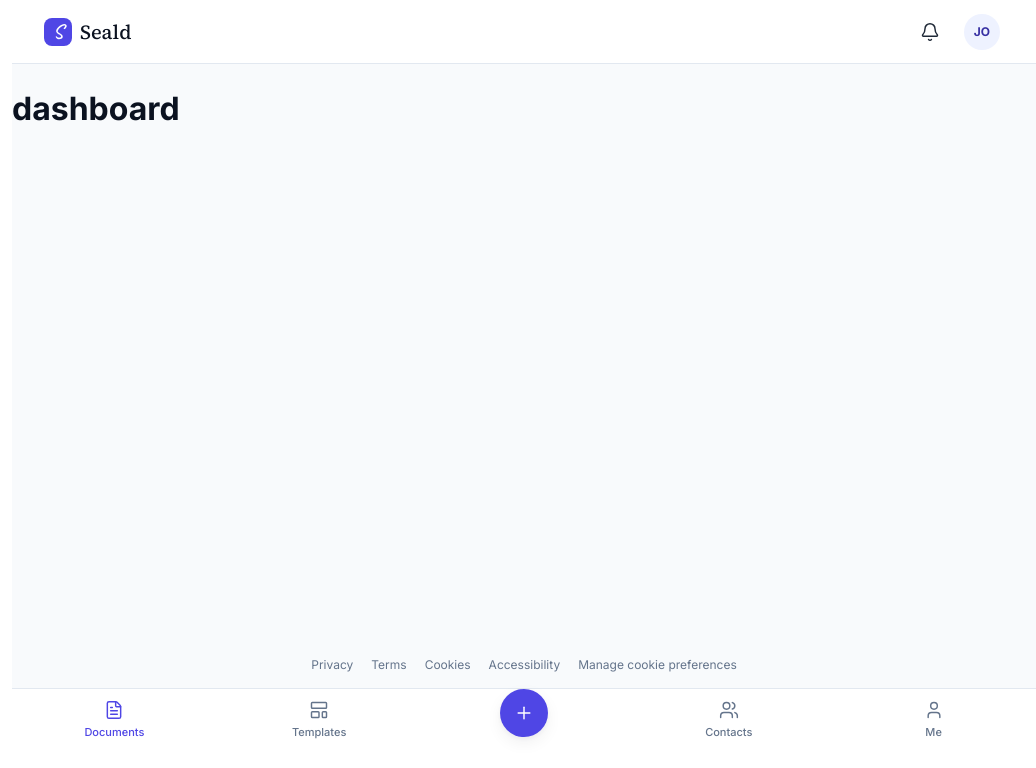
Test case: AppShell — mobile shell › bottom nav tabs navigate and "Me" lands on settings
This screenshot has width=1036, height=768.
What coordinates should you click on to do the following:
click the link "Me"
I would click on:
 (934, 720)
Its box is [924,700,944,739].
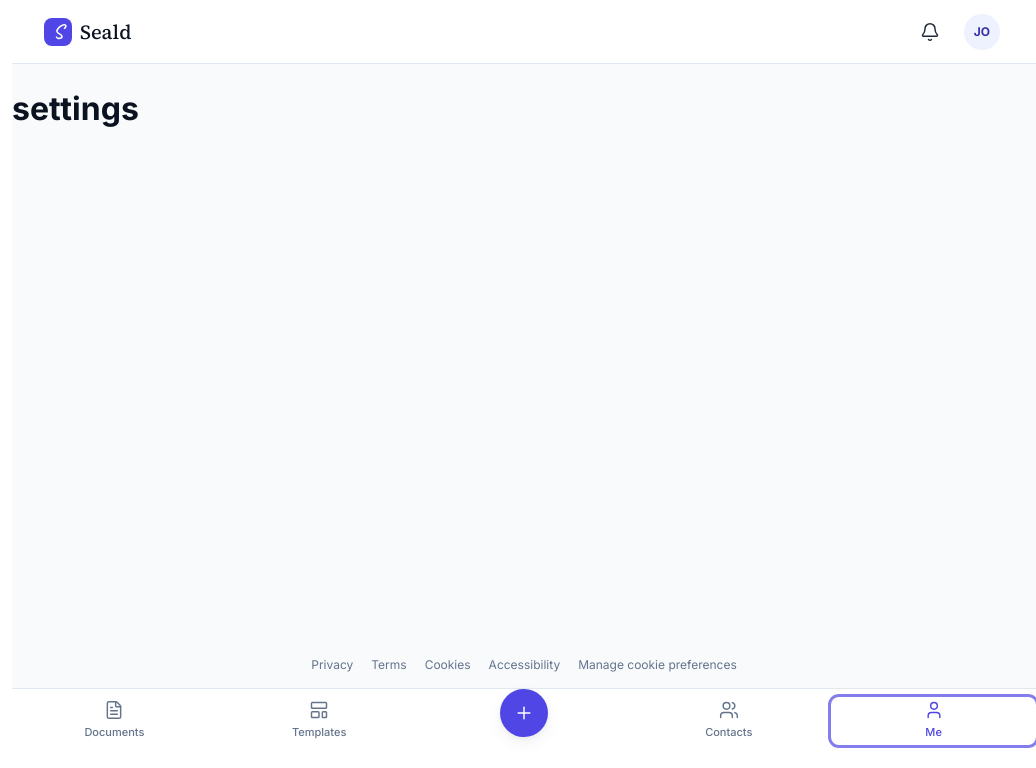
Check: the heading "settings" is shown, box [12,89,139,128]
